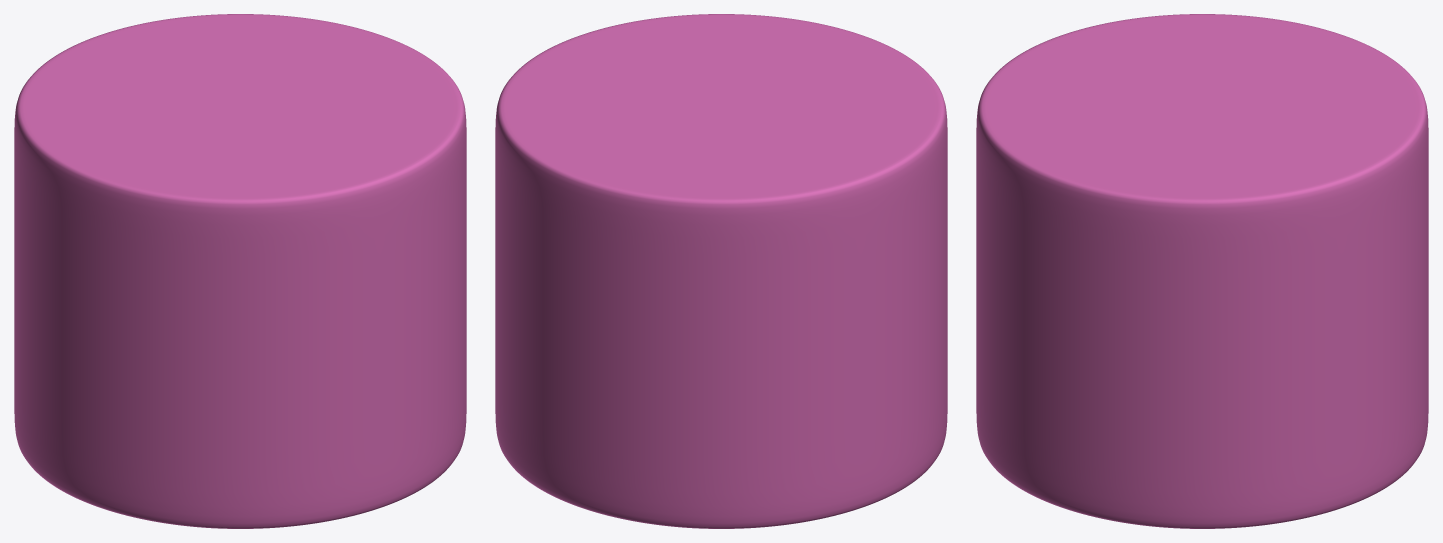
Rendered from Cake_Layer_1_Pink.glb.
The picture shows the model from 3 angles, left to right: view 1: azimuth 30°, elevation 25°; view 2: azimuth 150°, elevation 25°; view 3: azimuth 270°, elevation 25°; orthographic projection.
Visible parts, largest first — view 1: Circle; view 2: Circle; view 3: Circle.
Boxes of the visible parts, <box> form: Circle: <box>14,14,466,528</box>; Circle: <box>495,14,947,528</box>; Circle: <box>976,14,1428,528</box>.
Size of the model in its own units: 0.149 by 0.12 by 0.149.
